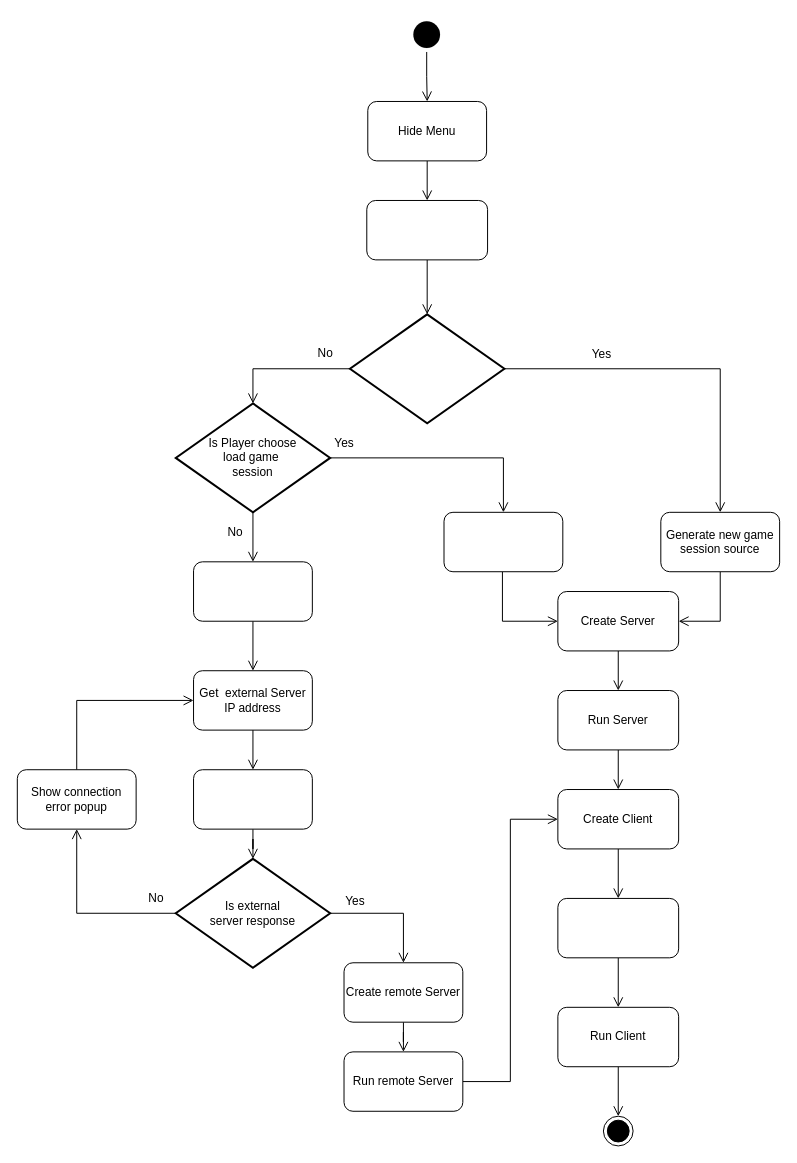
Some shapes in this 797 by 1163 pixel diagram are drawn without their labels. The shapes that lost their labels are listed below. From the top down, each one's centre as x and y in pixels, then its label:
At (x=427, y=229): "Show Multiplayer Menu".
At (x=426, y=368): "Is Player choose new game session".
At (x=503, y=541): "Load saved game session source".
At (x=252, y=591): "Create IP connection".
At (x=252, y=799): "Try connect to external Server".
At (x=618, y=927): "Connect Client to the Server".
